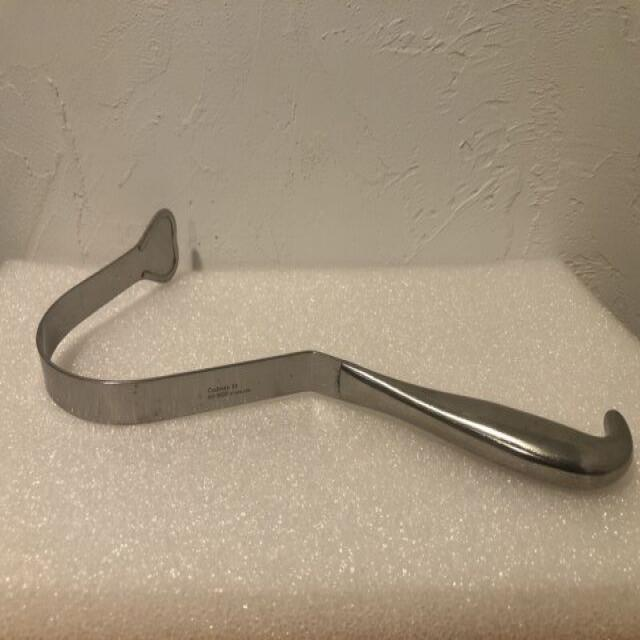Hrrington retractor: (34, 203, 636, 497)
